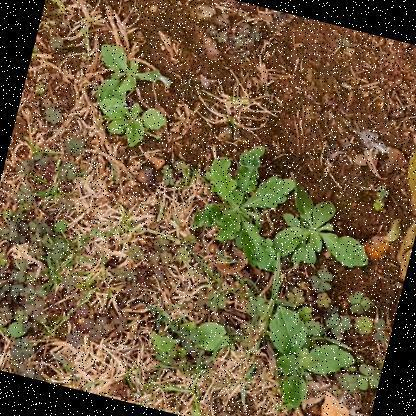Weeds: (183, 135, 305, 278), (250, 298, 365, 415), (269, 176, 383, 290), (89, 39, 175, 119), (146, 308, 233, 374), (87, 94, 165, 160)
